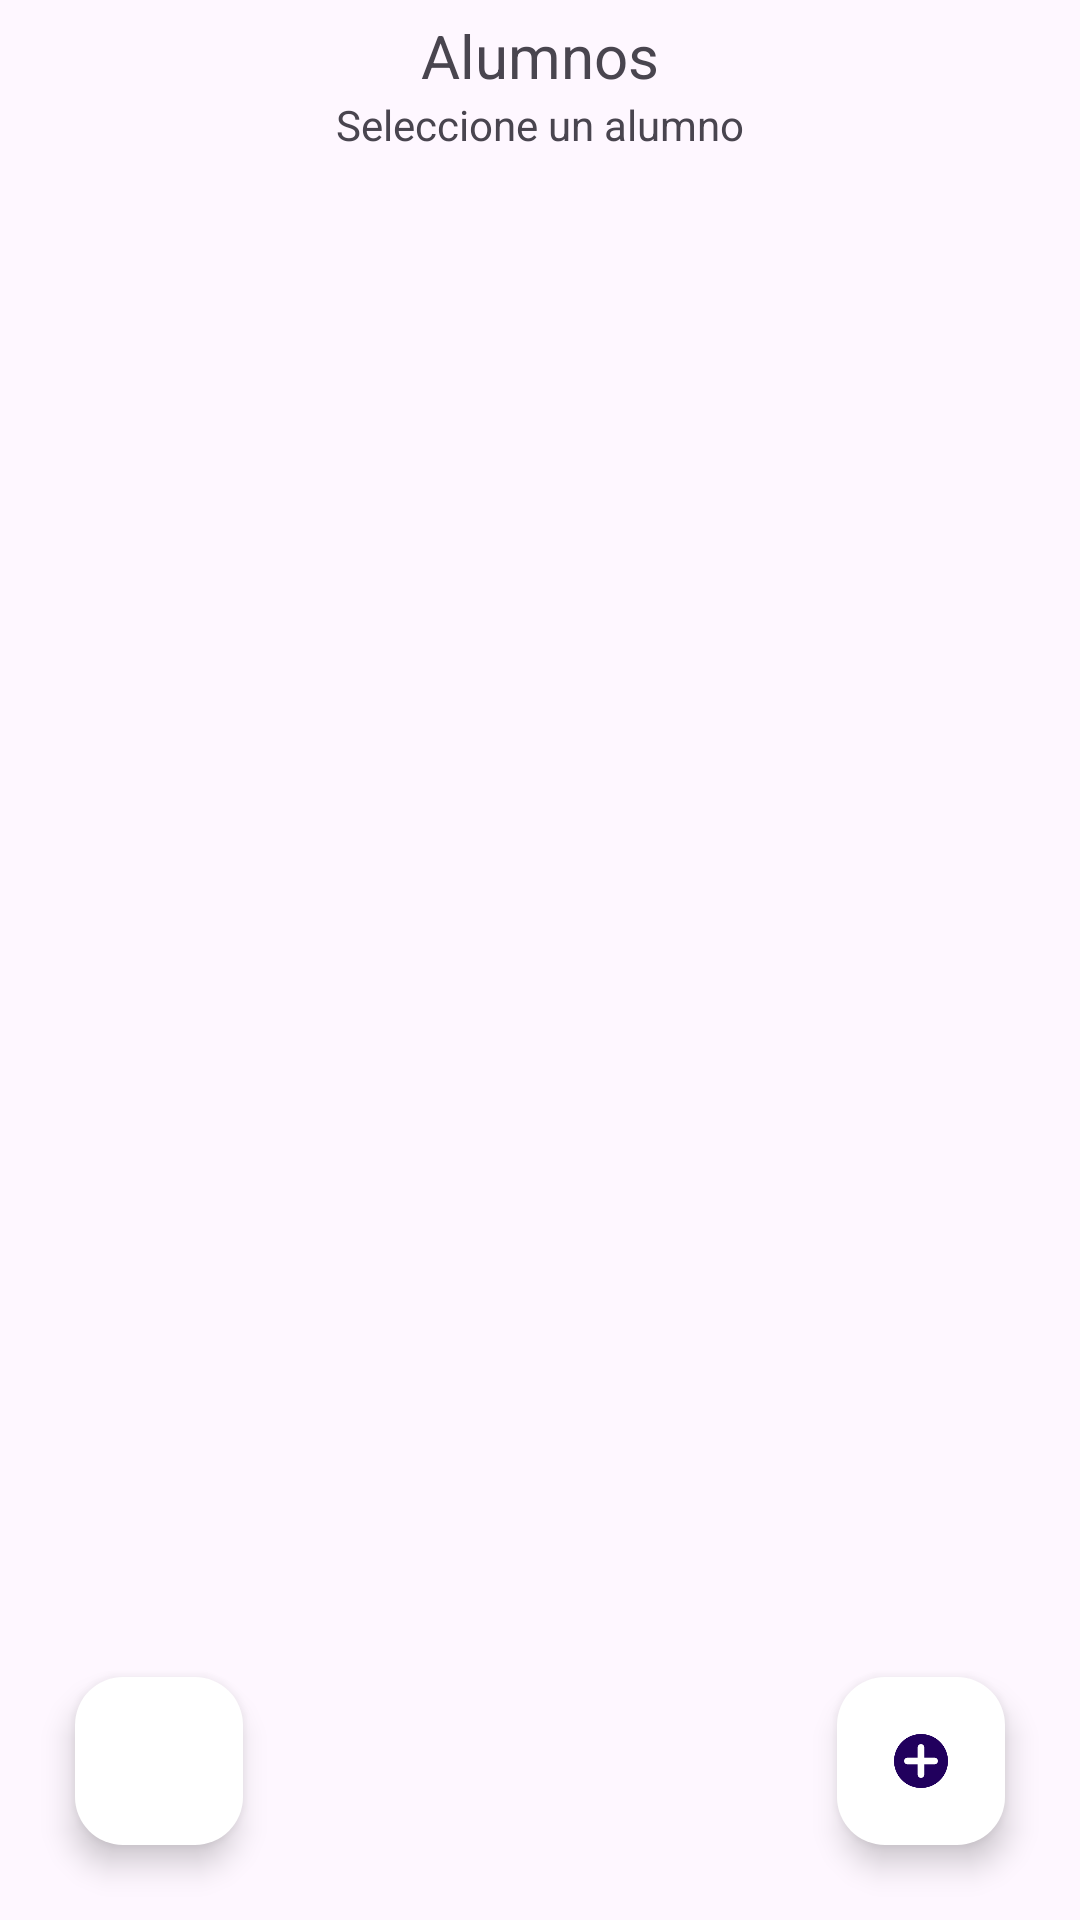

Named icons in this screenshot (1080 x 1920) and their centers, (x,y):
agregar: (921,1761)
